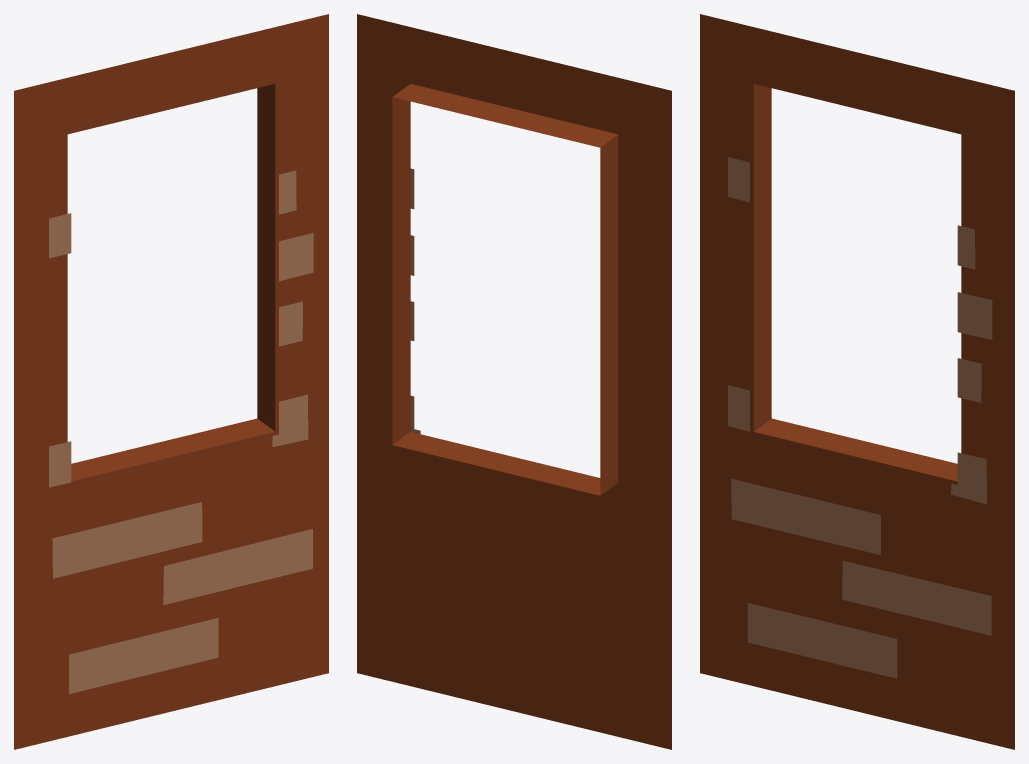
File: Ext-BrickV2SmallWindowframe.fbx
The picture shows the model from 3 angles, left to right: view 1: azimuth 30°, elevation 25°; view 2: azimuth 150°, elevation 25°; view 3: azimuth 330°, elevation 25°; orthographic projection.
Parts seen in each view (by area): view 1: Ext-BrickV2SmallWindowframe; view 2: Ext-BrickV2SmallWindowframe; view 3: Ext-BrickV2SmallWindowframe.
Boxes of the visible parts, bbox=[...] form: Ext-BrickV2SmallWindowframe: bbox=[14, 14, 328, 749]; Ext-BrickV2SmallWindowframe: bbox=[357, 14, 671, 749]; Ext-BrickV2SmallWindowframe: bbox=[700, 14, 1014, 749].
Size of the model in its own units: 100 by 200 by 12.
